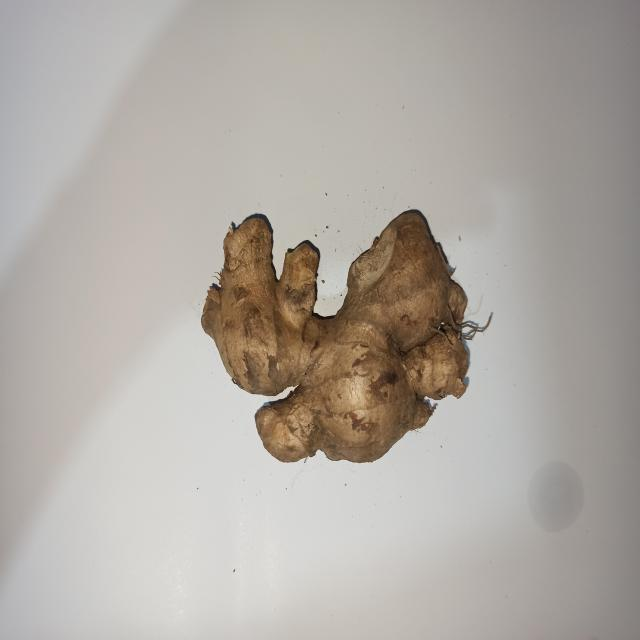ginger: (204, 218, 472, 463)
